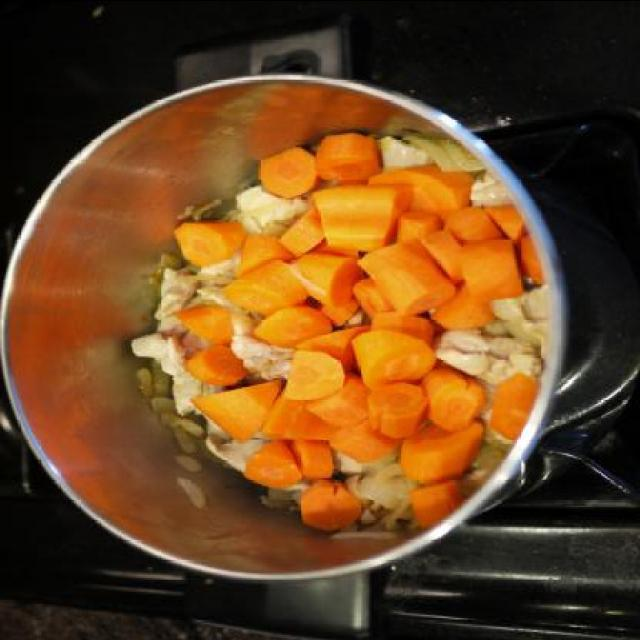Carrot: (177, 133, 546, 530), (398, 427, 488, 491)
